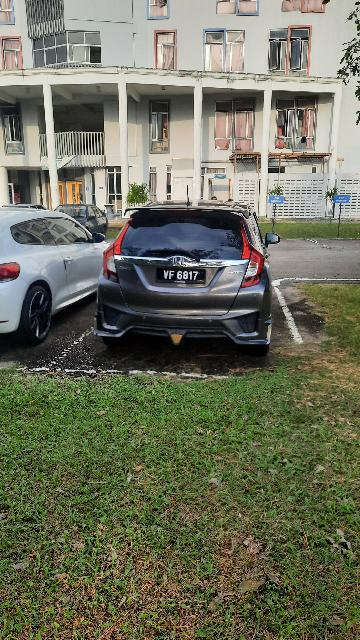License_Plate: (157, 267, 208, 288)
car: (96, 196, 282, 357)
